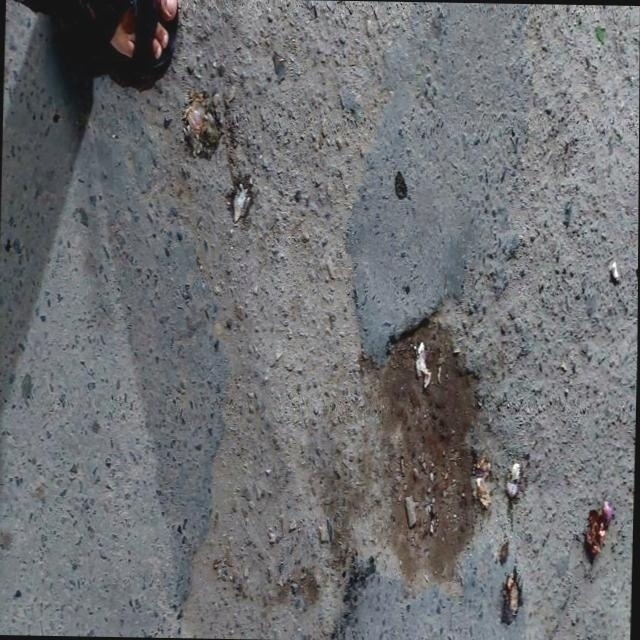pothole: (328, 298, 483, 586)
